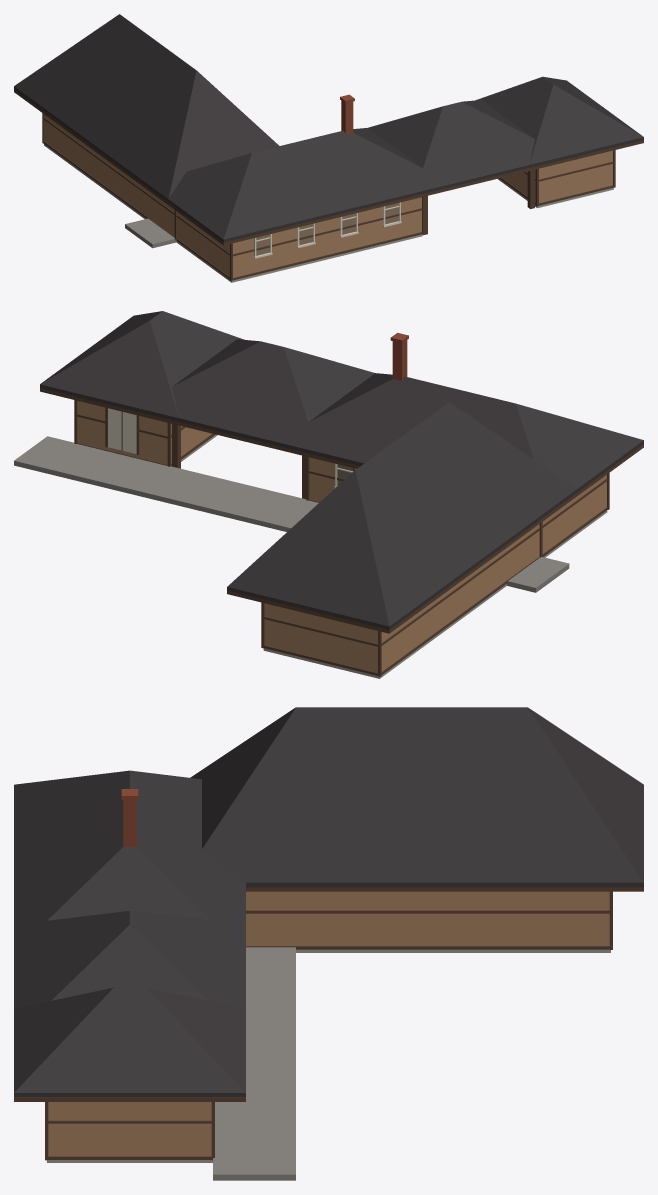
File: Corliss_Depot.glb
3 renders of one model, top to bottom at view 1: azimuth 30°, elevation 25°; view 2: azimuth 150°, elevation 25°; view 3: azimuth 270°, elevation 25°, orthographic. The views are drawn at different scales.
Parts seen in each view (by area): view 1: roof, walls, trim, foundation, platform, glass, sash, chimney; view 2: roof, walls, platform, trim, doors, foundation, chimney; view 3: roof, walls, platform, trim, foundation, chimney.
Part boxes in pixels (x1=…): roof: x1=14, y1=14, x2=643, y2=242; walls: x1=44, y1=115, x2=612, y2=277; trim: x1=14, y1=89, x2=643, y2=280; foundation: x1=44, y1=144, x2=613, y2=282; platform: x1=125, y1=218, x2=176, y2=248; glass: x1=256, y1=203, x2=398, y2=255; sash: x1=254, y1=202, x2=401, y2=258; chimney: x1=340, y1=94, x2=354, y2=134; roof: x1=40, y1=311, x2=643, y2=629; walls: x1=77, y1=401, x2=606, y2=672; platform: x1=14, y1=436, x2=569, y2=592; trim: x1=40, y1=388, x2=643, y2=676; doors: x1=108, y1=408, x2=356, y2=469; foundation: x1=181, y1=434, x2=607, y2=678; chimney: x1=390, y1=332, x2=408, y2=380; roof: x1=14, y1=707, x2=643, y2=1097; walls: x1=48, y1=891, x2=609, y2=1156; platform: x1=213, y1=947, x2=295, y2=1180; trim: x1=14, y1=887, x2=643, y2=1160; foundation: x1=47, y1=949, x2=610, y2=1162; chimney: x1=121, y1=789, x2=138, y2=846.
Size of the model in its own units: 0.9459 by 0.2943 by 0.7988.
